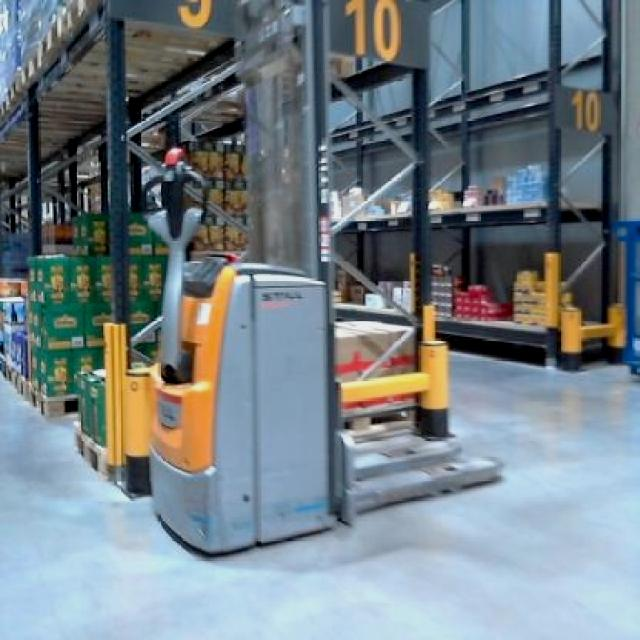floor: (0, 351, 637, 637)
pallets: (149, 262, 331, 551), (26, 214, 109, 392), (126, 212, 163, 329), (615, 218, 637, 371)
